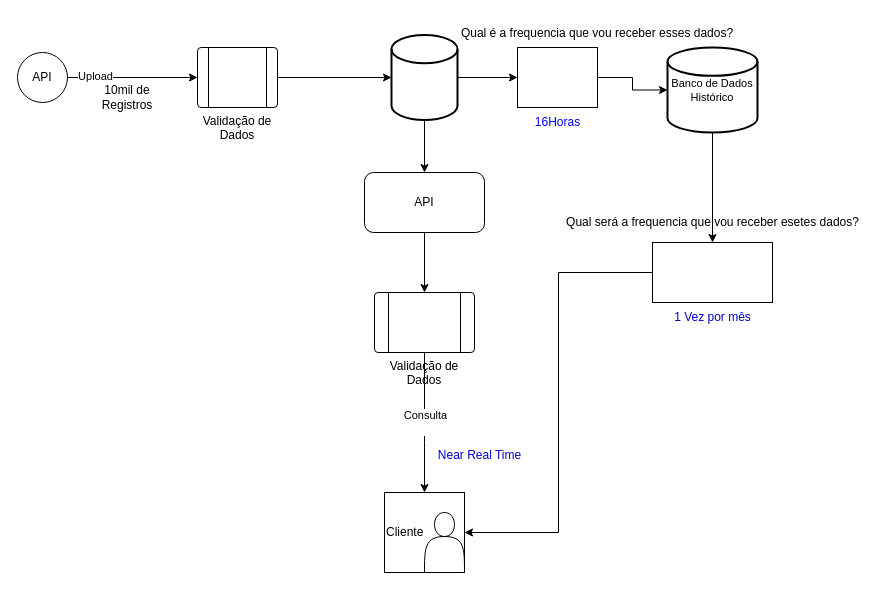
The diagram is 885 pixels wide and 590 high, and some of its shapes have lost their labels. Each missing label, with the centre of its shape:
"Banco de Dados" belongs at pixel 424 77.
"Inserir Dados" belongs at pixel 557 77.
"Processamento mensal 400 milhões de registros" belongs at pixel 712 272.
